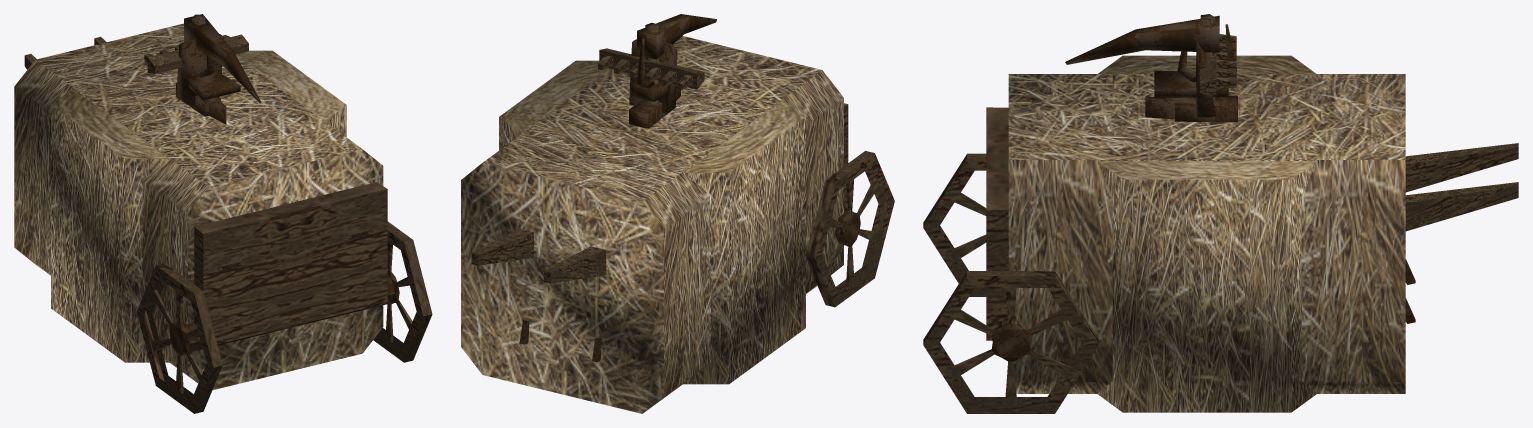
Rendered from tools_fbx.fbx.
The picture shows the model from 3 angles, left to right: view 1: azimuth 30°, elevation 25°; view 2: azimuth 150°, elevation 25°; view 3: azimuth 270°, elevation 25°; orthographic projection. The views are drawn at different scales.
Parts seen in each view (by area): view 1: Hay Bale 1, Wheelbarrel, Hay Bale 2, Scythe, Shovel, Rake, Hoe; view 2: Hay Bale 1, Hay Bale 2, Wheelbarrel, Rake, Scythe, Shovel, Hammer, Hoe; view 3: Hay Bale 1, Hay Bale 2, Wheelbarrel, Scythe, Rake, Hoe, Hammer, Axe, Shovel.
Boxes of the visible parts, box(x1,y1,x2,y2) form: Hay Bale 1: box(14, 23, 383, 390); Wheelbarrel: box(24, 36, 432, 413); Hay Bale 2: box(51, 50, 346, 362); Scythe: box(184, 14, 260, 103); Shovel: box(176, 34, 222, 105); Rake: box(144, 34, 248, 73); Hoe: box(189, 71, 240, 100); Hay Bale 1: box(461, 36, 843, 413); Hay Bale 2: box(499, 60, 805, 384); Wheelbarrel: box(471, 103, 894, 362); Rake: box(598, 48, 704, 89); Scythe: box(637, 14, 716, 62); Shovel: box(629, 39, 677, 113); Hammer: box(629, 99, 667, 128); Hoe: box(631, 77, 677, 101); Hay Bale 1: box(1008, 74, 1405, 393); Hay Bale 2: box(1097, 55, 1316, 412); Wheelbarrel: box(923, 107, 1518, 413); Scythe: box(1065, 14, 1219, 64); Rake: box(1200, 34, 1236, 97); Hoe: box(1154, 70, 1228, 98); Hammer: box(1175, 96, 1237, 122); Axe: box(1145, 96, 1219, 122); Shovel: box(1195, 41, 1215, 117).
Bounding box in the file's own units: 289 × 424 × 587.
Materials: 2 (2 with a texture image).
